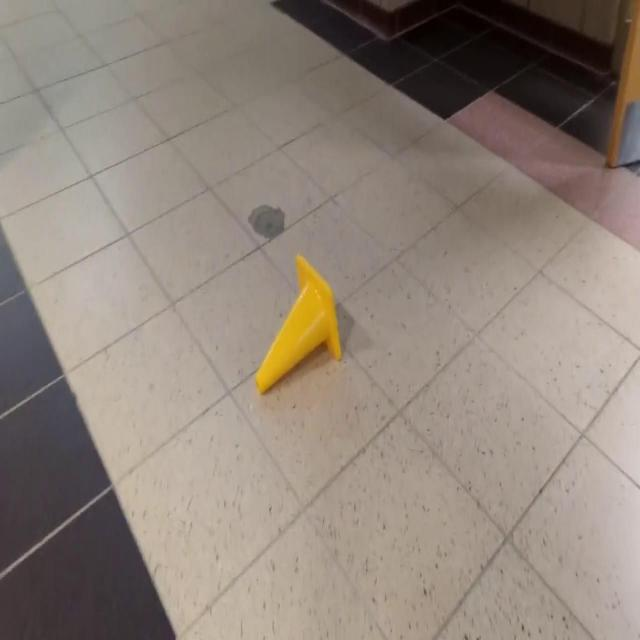frc_cone: (254, 253, 342, 397)
